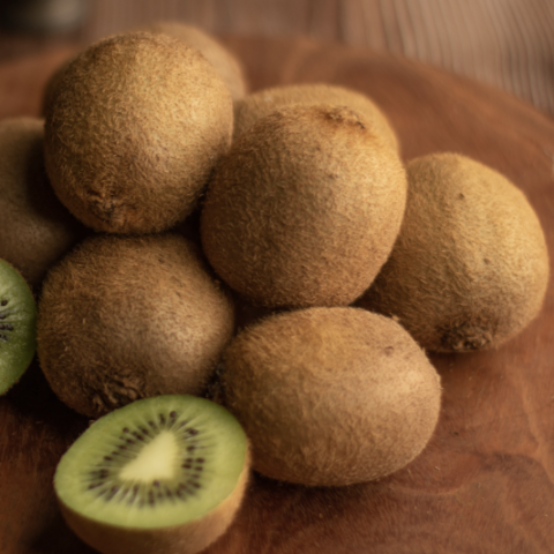kiwi: (186, 305, 464, 481), (176, 97, 414, 302), (9, 228, 240, 427), (23, 20, 237, 227), (364, 149, 552, 374)
